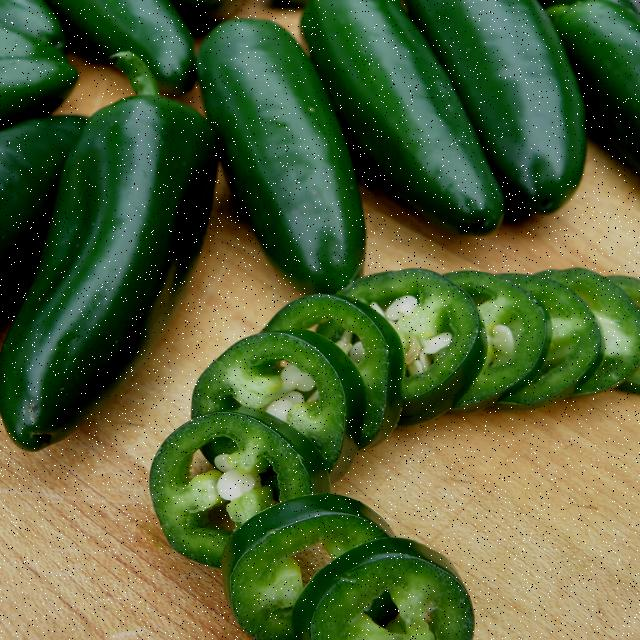Chili Pepper: (145, 339, 629, 619), (4, 60, 208, 529), (419, 0, 640, 282), (208, 18, 377, 302), (316, 2, 515, 241)
